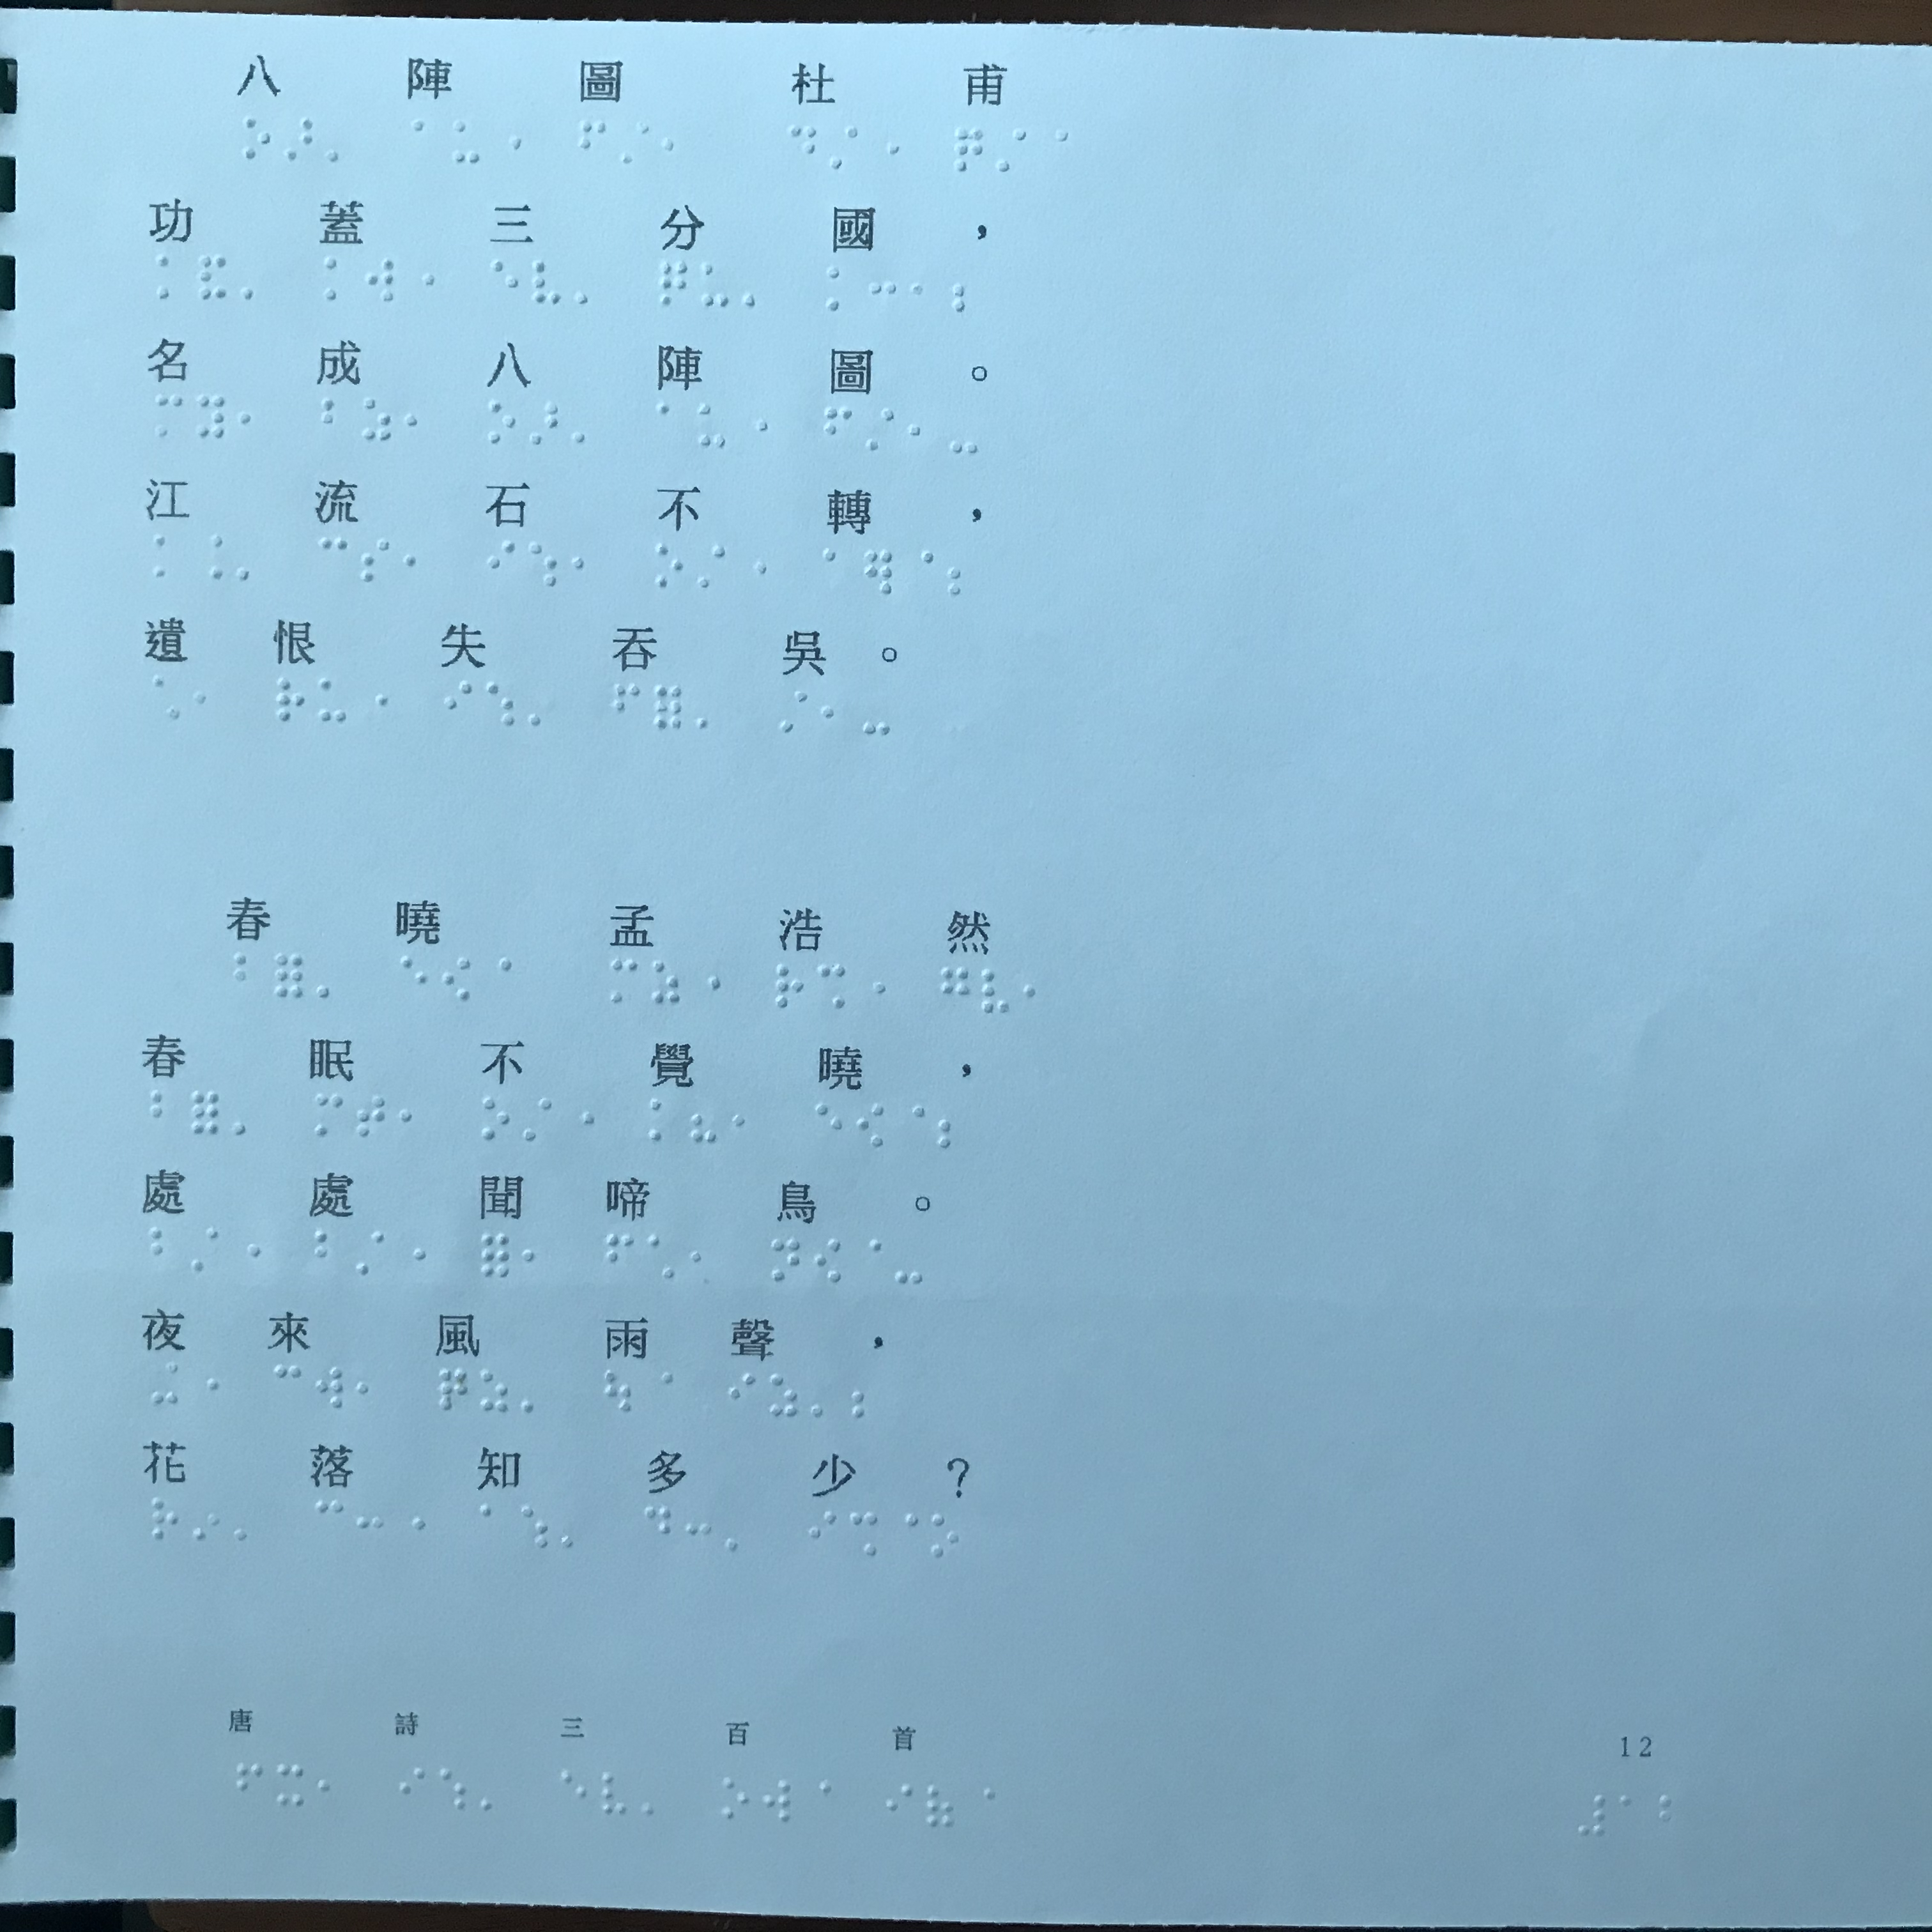Braille: (954, 122, 987, 177), (1573, 1792, 1608, 1842), (357, 393, 391, 444), (149, 672, 182, 724), (439, 1364, 472, 1414), (487, 536, 517, 591), (814, 1097, 844, 1152), (863, 547, 895, 598), (479, 1231, 513, 1279), (851, 1371, 885, 1419), (771, 1233, 801, 1286), (152, 1357, 182, 1410), (272, 952, 304, 1001), (522, 1095, 554, 1145), (479, 1368, 511, 1417), (642, 1369, 674, 1419), (800, 1775, 832, 1824), (925, 1782, 957, 1831), (607, 957, 640, 1003), (658, 258, 688, 310), (950, 407, 980, 458), (603, 1369, 633, 1421), (851, 1507, 881, 1559), (442, 955, 474, 1003), (773, 964, 805, 1012), (313, 1226, 345, 1274), (147, 1495, 179, 1543), (642, 1506, 674, 1553), (929, 1511, 961, 1559), (1658, 1792, 1690, 1840), (529, 540, 557, 593), (283, 113, 313, 163), (998, 124, 1028, 173), (488, 257, 518, 306), (529, 400, 559, 449), (699, 400, 729, 449), (823, 402, 853, 451), (276, 674, 306, 724), (655, 683, 685, 732), (863, 688, 893, 738), (191, 1086, 221, 1136), (895, 1100, 925, 1150), (191, 1224, 221, 1274), (520, 1502, 550, 1552), (366, 258, 398, 304), (357, 1093, 389, 1139), (453, 115, 481, 166), (701, 257, 729, 308), (405, 393, 433, 444), (950, 547, 978, 598), (819, 961, 847, 1012), (984, 966, 1012, 1017), (771, 1371, 800, 1422), (603, 1769, 632, 1821), (787, 122, 817, 170), (533, 260, 563, 308), (865, 405, 895, 453), (152, 533, 182, 580), (320, 538, 350, 586), (478, 1095, 508, 1143), (564, 1097, 594, 1145), (649, 961, 681, 1005), (147, 1224, 179, 1269), (196, 389, 225, 439), (363, 538, 391, 587), (232, 1224, 260, 1274), (895, 1237, 924, 1286), (230, 948, 260, 994), (354, 1230, 384, 1276), (853, 1237, 883, 1283), (356, 1499, 386, 1545), (885, 1778, 915, 1824), (318, 678, 345, 729), (363, 676, 389, 727), (832, 122, 860, 170), (200, 253, 228, 301), (575, 260, 603, 308), (487, 679, 515, 727), (315, 1092, 343, 1139), (938, 1102, 966, 1150), (816, 1237, 844, 1284), (396, 1500, 425, 1548), (563, 1504, 591, 1552), (727, 1371, 757, 1415), (235, 1762, 265, 1806), (276, 1764, 306, 1808), (235, 391, 262, 441), (448, 678, 474, 727), (941, 964, 968, 1014), (764, 1775, 791, 1824), (326, 117, 354, 163), (870, 126, 899, 172), (195, 534, 223, 580), (612, 681, 640, 727), (690, 1099, 718, 1145), (396, 1231, 425, 1277), (648, 1233, 676, 1279), (315, 1366, 343, 1412), (890, 1509, 918, 1555), (441, 1766, 469, 1812), (909, 403, 934, 455), (242, 113, 269, 161), (157, 251, 184, 299), (869, 265, 895, 313), (156, 393, 182, 441), (322, 393, 349, 441), (490, 398, 517, 446), (400, 955, 426, 1003), (858, 964, 885, 1012), (1023, 970, 1049, 1017), (150, 1086, 177, 1134), (193, 1359, 219, 1407), (318, 1495, 345, 1543), (656, 402, 685, 446), (722, 1509, 750, 1553), (968, 1783, 996, 1828), (1619, 1794, 1647, 1838), (745, 260, 770, 310), (398, 1093, 423, 1143), (860, 1102, 885, 1152), (821, 688, 847, 734), (518, 1371, 545, 1417), (780, 688, 809, 731), (809, 1509, 837, 1552), (398, 1766, 426, 1808), (414, 115, 439, 163), (327, 255, 352, 303), (410, 258, 435, 306), (522, 1233, 547, 1281), (580, 119, 607, 163), (239, 536, 265, 580), (658, 543, 685, 587), (701, 543, 727, 587), (694, 962, 720, 1007), (688, 1237, 715, 1281), (478, 1767, 504, 1812), (497, 117, 520, 166), (830, 265, 855, 311), (955, 265, 980, 311), (403, 538, 426, 587), (743, 541, 766, 591), (909, 548, 934, 594), (193, 671, 216, 720), (487, 955, 511, 1001), (648, 1097, 672, 1143), (810, 1373, 835, 1419), (563, 1769, 587, 1815), (642, 1771, 667, 1817), (607, 1233, 633, 1276), (193, 1499, 219, 1541), (315, 1766, 341, 1808), (1044, 126, 1067, 173), (909, 265, 932, 313), (699, 683, 722, 731), (573, 400, 598, 444), (823, 543, 847, 587), (318, 955, 343, 1000), (276, 1362, 301, 1407), (688, 1509, 713, 1553), (529, 681, 552, 727), (743, 405, 768, 448), (722, 1778, 748, 1817), (625, 122, 648, 166), (571, 543, 594, 587), (234, 1093, 257, 1138), (732, 1102, 757, 1143), (662, 120, 685, 163), (235, 1500, 258, 1543), (481, 1500, 504, 1543), (244, 257, 265, 301), (356, 1368, 377, 1410)
